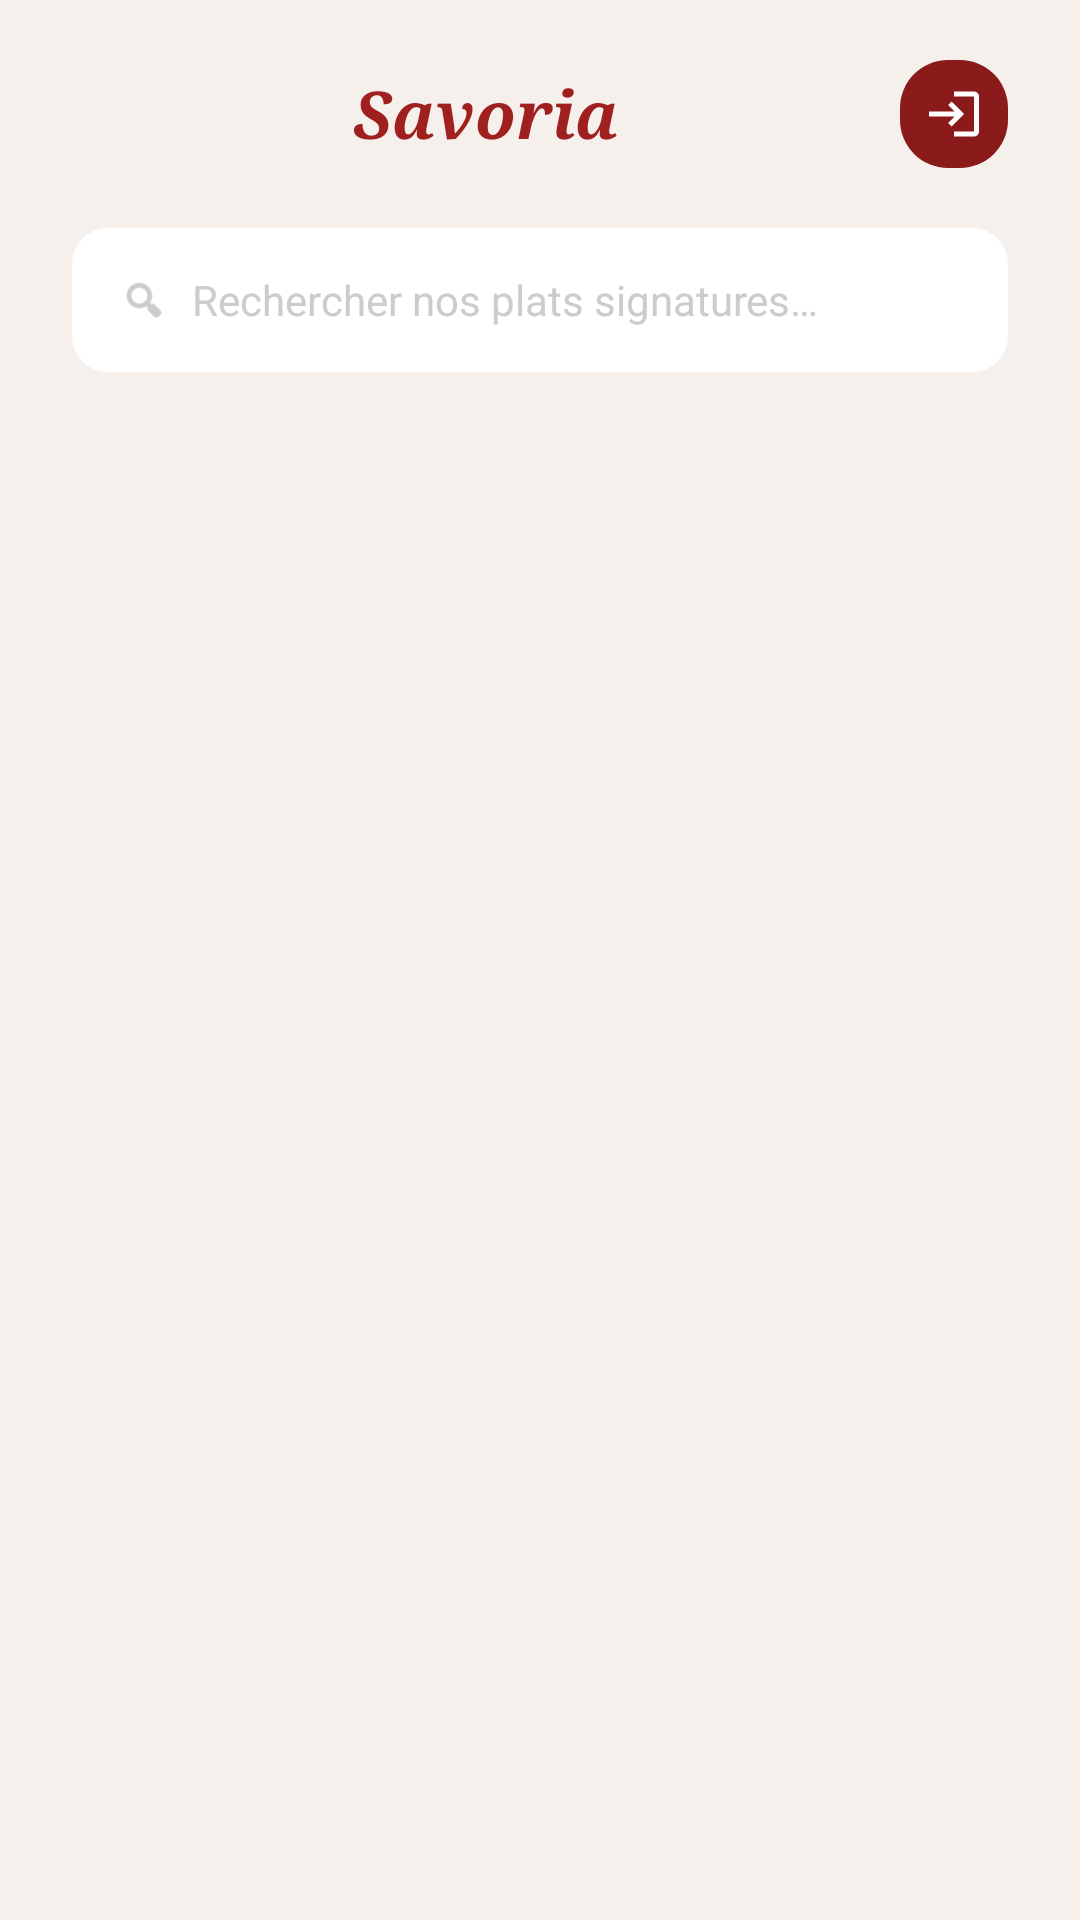

Screen size 1080px×1920px. Icon name, then its box in pixels as region(x1, y1, x2, y2):
Connexion admin: region(900, 60, 1008, 168)
search: region(127, 283, 161, 318)
